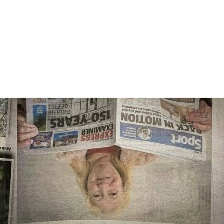news_paper: (22, 96, 208, 165)
